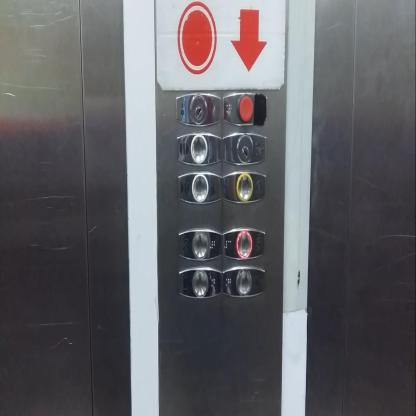0: (178, 266, 222, 300)
2: (178, 226, 222, 262)
3: (223, 226, 266, 261)
G: (222, 264, 265, 298)
alarm: (222, 170, 266, 204)
blur: (222, 90, 267, 127)
close: (178, 170, 223, 206)
key: (175, 91, 221, 127)
keyhole: (222, 131, 267, 166)
open: (175, 131, 222, 167)
